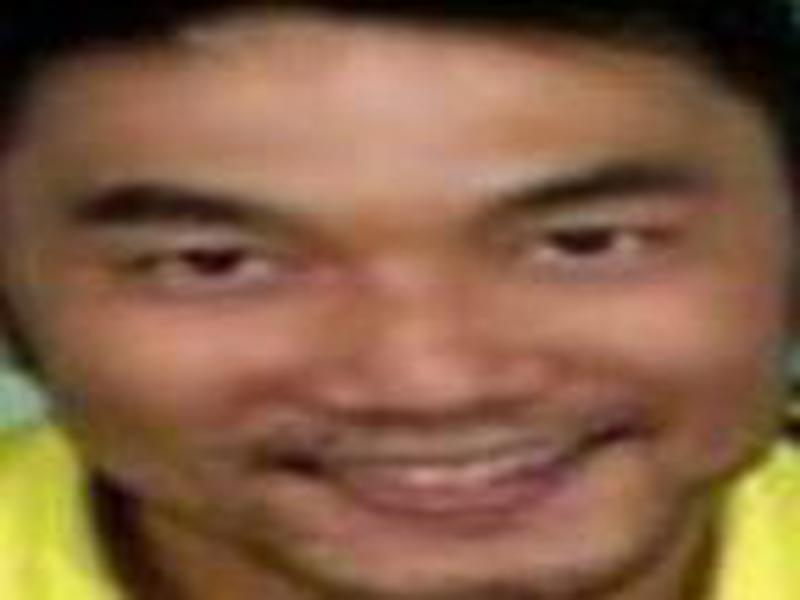without_mask: (25, 68, 768, 600)
